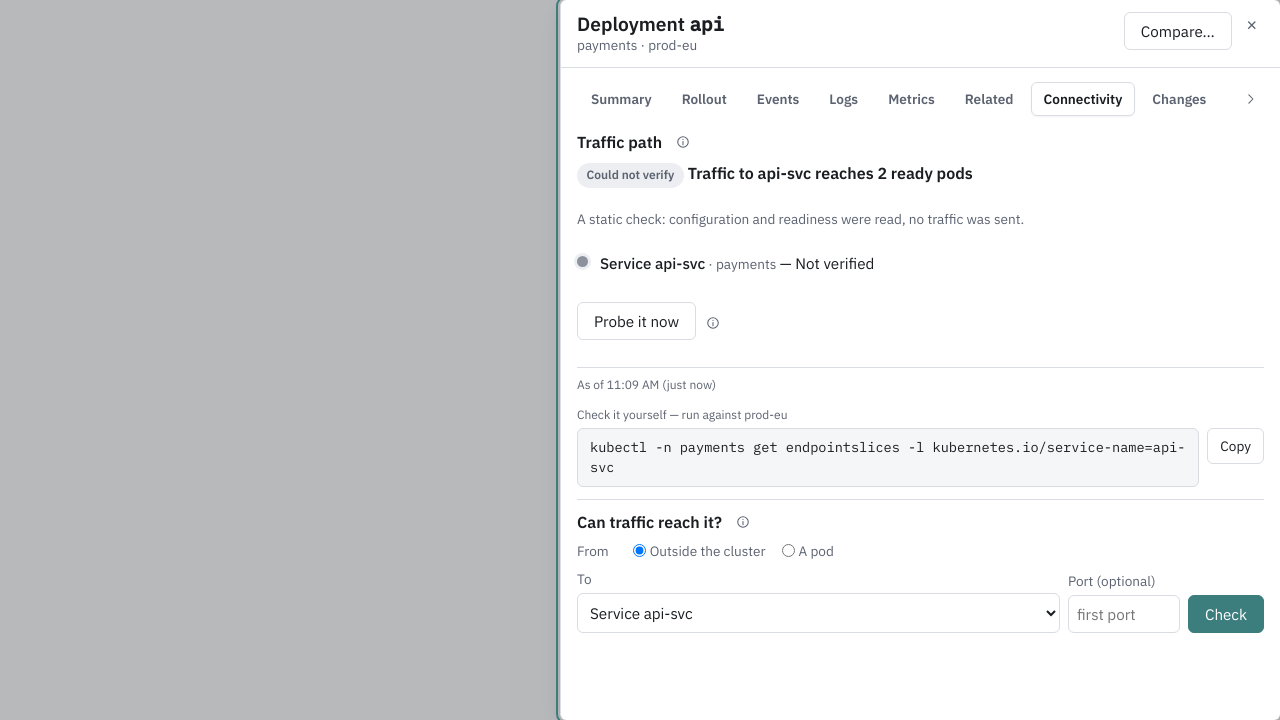
Test: ObjectInspector — Connectivity › checks NetworkPolicy from outside the cluster and states the verdict in words
Expected: the text "Could not verify Traffic to api-svc reaches 2 ready pods" is shown, [577, 163, 973, 188]
Click the button "Check" at (1226, 614), box [1188, 595, 1264, 633]
(page scrolled)
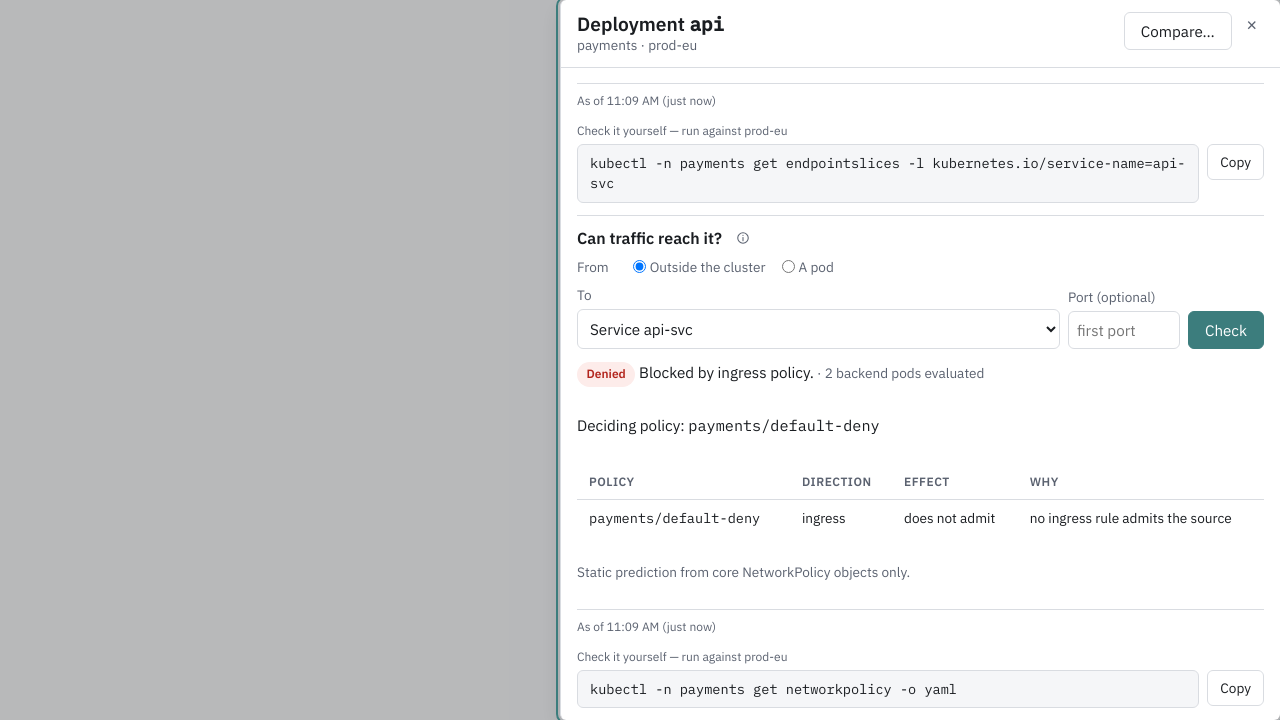
Expected: the text "Denied" is shown, [577, 362, 635, 387]
Expected: the text "Denied Blocked by ingress policy. · 2 backend pods evaluated" is shown, [577, 362, 984, 387]
Expected: the text "does not admit" is shown, [892, 500, 1018, 536]
